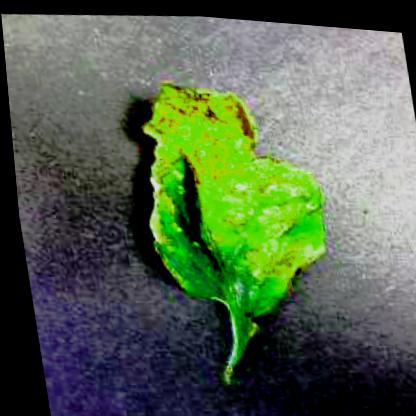BACTERIAL SPOT: (121, 66, 344, 398)
